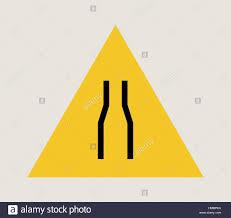narrow_road: (21, 20, 206, 179)
